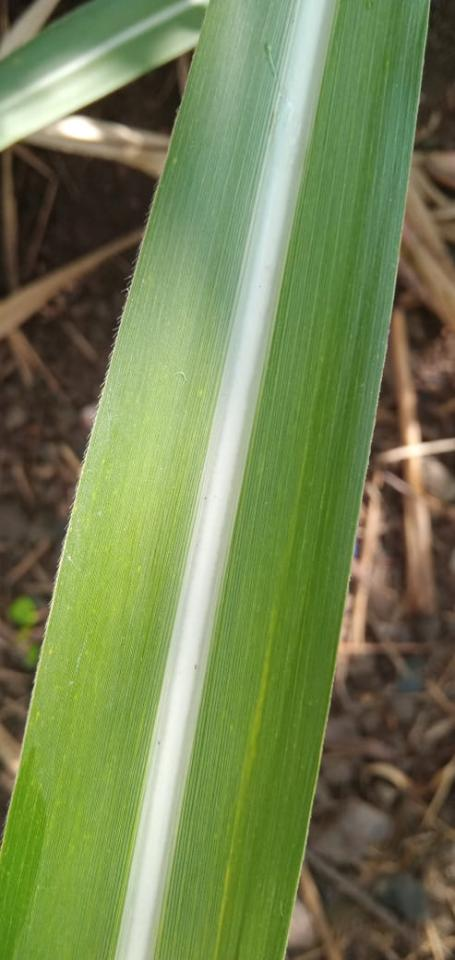Healthy: (0, 0, 432, 959)
